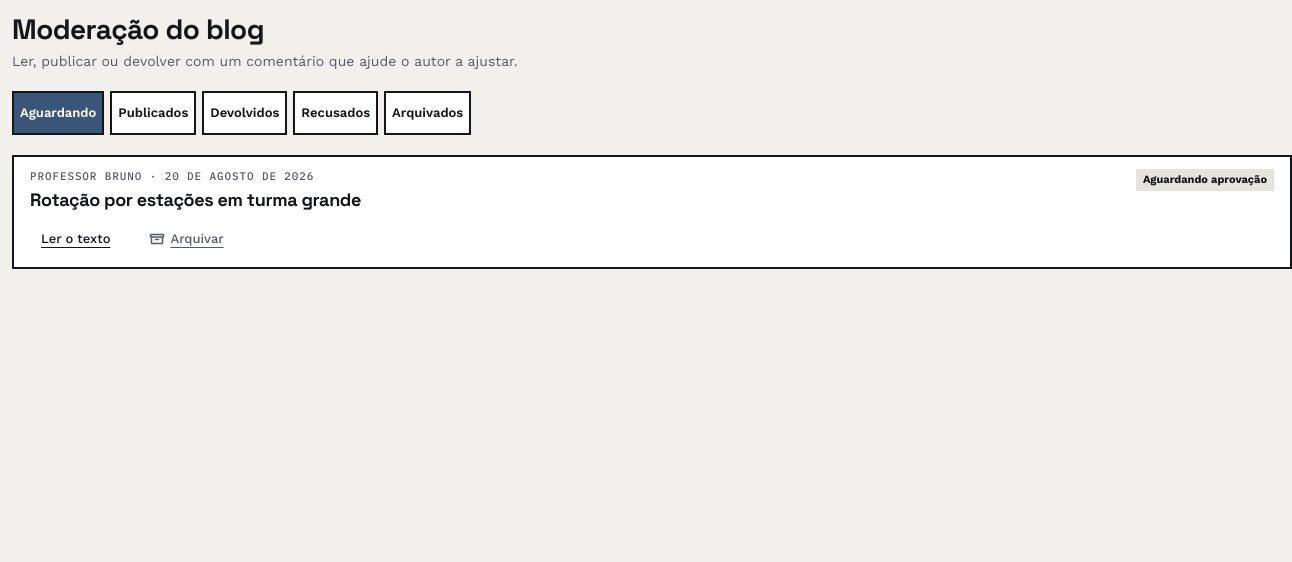
PaginaModeracao › lê o texto sem sair da fila
Expected: the heading "Rotação por estações em turma grande" is shown, [30,189,361,212]
Click the button "Ler o texto" at (76, 240), box [30,224,122,256]
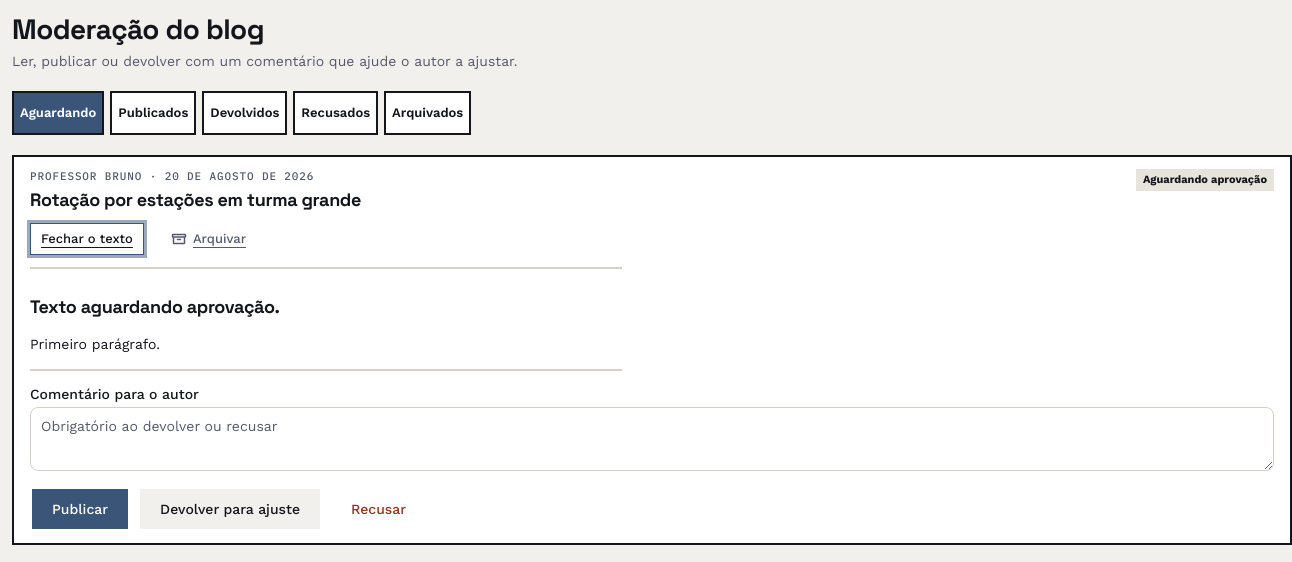
Expected: the heading "Texto aguardando aprovação." is shown, [30,296,280,318]
Expected: the button "Publicar" is shown, [30,487,130,531]
